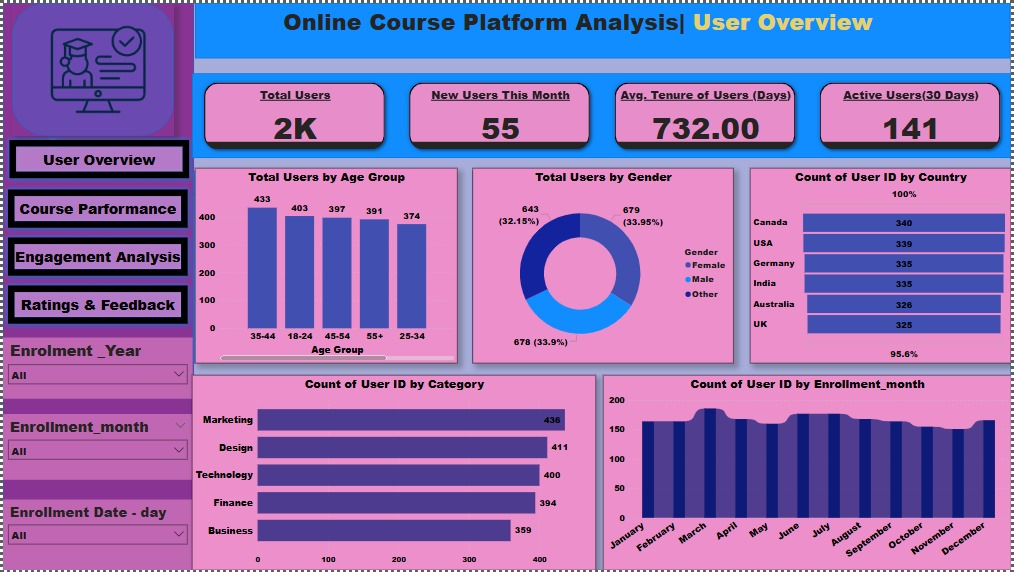

The dashboard page shown, as its layout file describes it:
{"tool":"powerbi","page":{"name":"User Overview","canvas":[1920,1080],"ordinal":0},"visuals":[{"type":"shape","box":[0,0,1920.1,1080.8],"z":0},{"type":"shape","box":[0,0,363.9,1080.6],"z":1000},{"type":"shape","box":[361.1,134.2,1559,161],"z":2000},{"type":"shape","box":[366.7,713.9,494.4,366.7],"z":3000},{"type":"shape","box":[363.5,319.6,495.3,366],"z":4000},{"type":"shape","box":[895.4,319.6,492.8,366],"z":5000},{"type":"shape","box":[1424.9,319.6,495.3,366],"z":6000},{"type":"shape","box":[366.7,0,1552.8,105.6],"z":7000},{"type":"textbox","box":[480.6,0,1244.4,105.6],"z":8000},{"type":"image","box":[16.7,0,327.8,252.8],"z":9000},{"type":"shape","box":[16.7,0,308.3,252.8],"z":10000},{"type":"cardVisual","fields":{"Data":["OnlineLearningPlatform.Total Users(UO)","OnlineLearningPlatform.New Users This Month(UO)","OnlineLearningPlatform.Avg. Tenure of Users (Days)","OnlineLearningPlatform.Active Users (UO)(30 Days)"]},"box":[366.7,133.3,1552.8,161.1],"z":11000},{"type":"slicer","fields":{"Values":["OnlineLearningPlatform.Enrolment _Year"]},"box":[0,636.1,361.1,116.7],"z":12000},{"type":"slicer","fields":{"Values":["OnlineLearningPlatform.Enrollment_month"]},"box":[0,783.3,361.1,125],"z":13000},{"type":"slicer","fields":{"Values":["OnlineLearningPlatform.Enrollment Date - day"]},"box":[0,944.4,361.1,136.1],"z":14000},{"type":"donutChart","fields":{"Category":["OnlineLearningPlatform.Gender"],"Y":["OnlineLearningPlatform.Total Users"]},"box":[894.4,313.9,497.2,372.2],"z":15000},{"type":"shape","box":[363.9,213.9,494.4,300],"z":16000},{"type":"columnChart","fields":{"Category":["OnlineLearningPlatform.Age Group"],"Y":["OnlineLearningPlatform.Total Users"]},"box":[366.7,313.9,500,372.2],"z":17000},{"type":"funnel","fields":{"Category":["OnlineLearningPlatform.Country"],"Y":["CountNonNull(OnlineLearningPlatform.User ID)"]},"box":[1422.2,313.9,497.2,372.2],"z":18000},{"type":"barChart","fields":{"Category":["OnlineLearningPlatform.Category","OnlineLearningPlatform.Course ID"],"Y":["CountNonNull(OnlineLearningPlatform.User ID)"]},"box":[361.1,708.3,769.4,372.2],"z":19000},{"type":"ribbonChart","fields":{"Category":["OnlineLearningPlatform.Enrollment_month"],"Y":["CountNonNull(OnlineLearningPlatform.User ID)"]},"box":[1141.7,708.3,777.8,372.2],"z":20000},{"type":"actionButton","box":[80.6,252.8,30,35],"z":22000},{"type":"actionButton","box":[0,344.4,361.1,91.7],"z":23000},{"type":"actionButton","box":[0,436.1,361.1,91.7],"z":24000},{"type":"actionButton","box":[0,527.8,361.1,91.7],"z":25000},{"type":"actionButton","box":[2.8,252.8,361.1,91.7],"z":26000}]}

Visuals, with their boxes in screenshot pixels (x1, y1, x2, y2), scaled from the page's 1920x1080 canvas onto the 1014x572 screenshot:
shape: 0, 0, 1013, 571
shape: 0, 0, 192, 571
shape: 191, 71, 1013, 156
shape: 194, 378, 455, 571
shape: 192, 169, 454, 363
shape: 473, 169, 733, 363
shape: 753, 169, 1013, 363
shape: 194, 0, 1013, 56
textbox: 254, 0, 911, 56
image: 9, 0, 182, 134
shape: 9, 0, 172, 134
cardVisual - OnlineLearningPlatform.Total Users(UO) x OnlineLearningPlatform.New Users This Month(UO): 194, 71, 1013, 156
slicer - OnlineLearningPlatform.Enrolment _Year: 0, 337, 191, 399
slicer - OnlineLearningPlatform.Enrollment_month: 0, 415, 191, 481
slicer - OnlineLearningPlatform.Enrollment Date - day: 0, 500, 191, 571
donutChart - OnlineLearningPlatform.Gender x OnlineLearningPlatform.Total Users: 472, 166, 735, 363
shape: 192, 113, 453, 272
columnChart - OnlineLearningPlatform.Age Group x OnlineLearningPlatform.Total Users: 194, 166, 458, 363
funnel - OnlineLearningPlatform.Country x CountNonNull(OnlineLearningPlatform.User ID): 751, 166, 1013, 363
barChart - OnlineLearningPlatform.Category x OnlineLearningPlatform.Course ID: 191, 375, 597, 571
ribbonChart - OnlineLearningPlatform.Enrollment_month x CountNonNull(OnlineLearningPlatform.User ID): 603, 375, 1013, 571
actionButton: 43, 134, 58, 152
actionButton: 0, 182, 191, 231
actionButton: 0, 231, 191, 280
actionButton: 0, 280, 191, 328
actionButton: 1, 134, 192, 182
